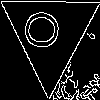O: (24, 9, 66, 50)
